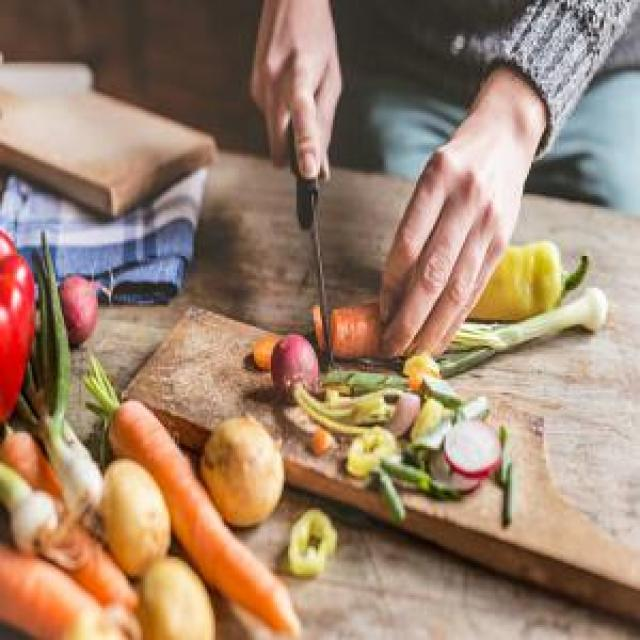knife: (282, 66, 346, 368)
